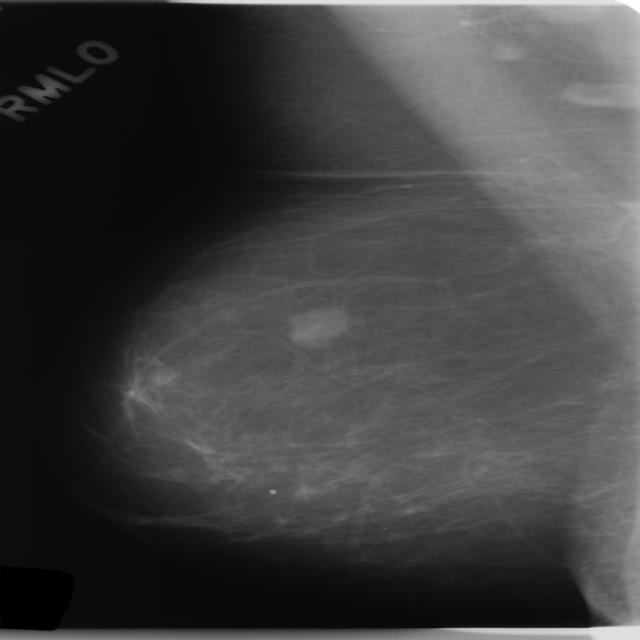tumour: (285, 305, 353, 346)
